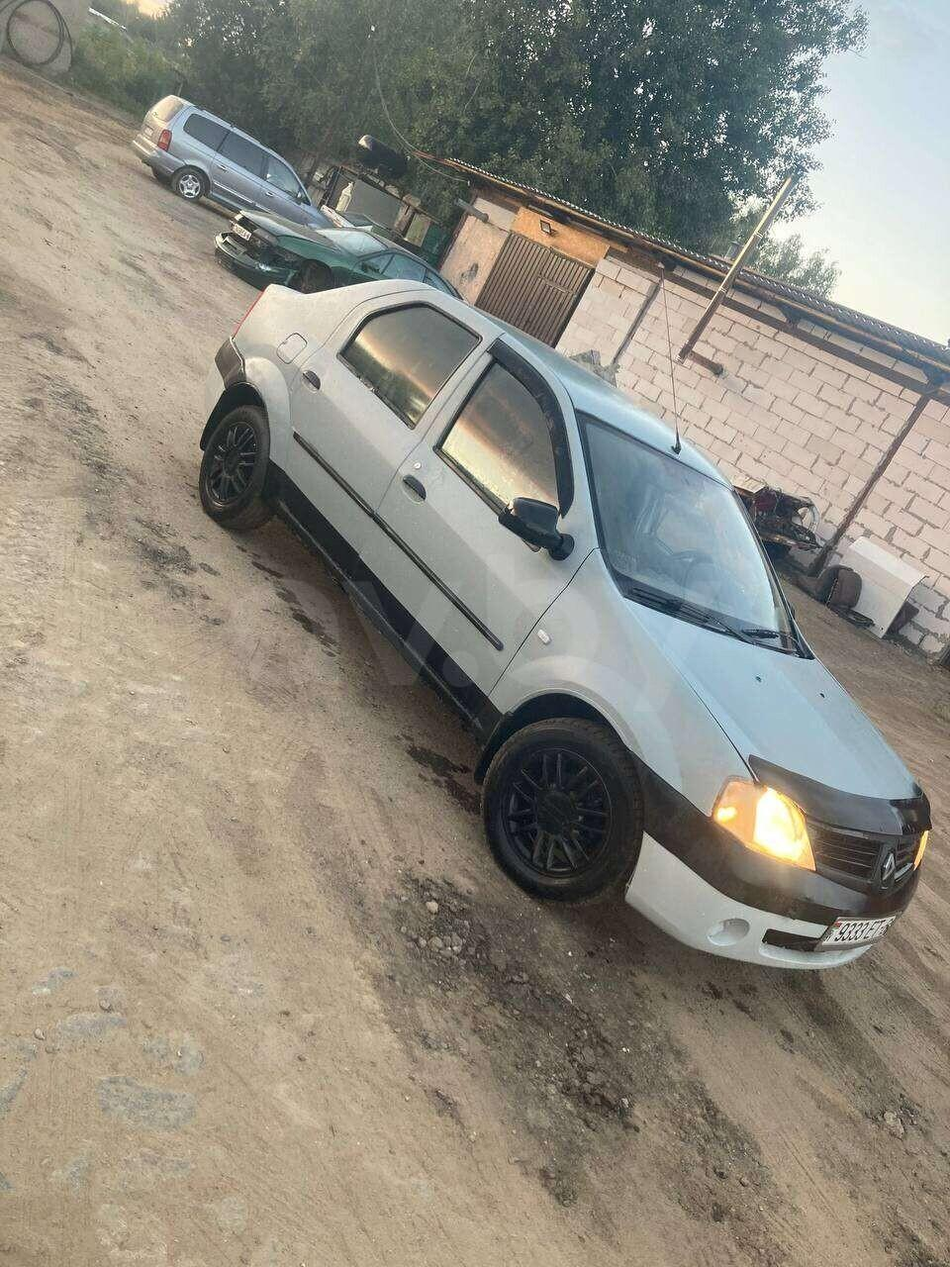Logan_2004-2009: (195, 272, 938, 983)
